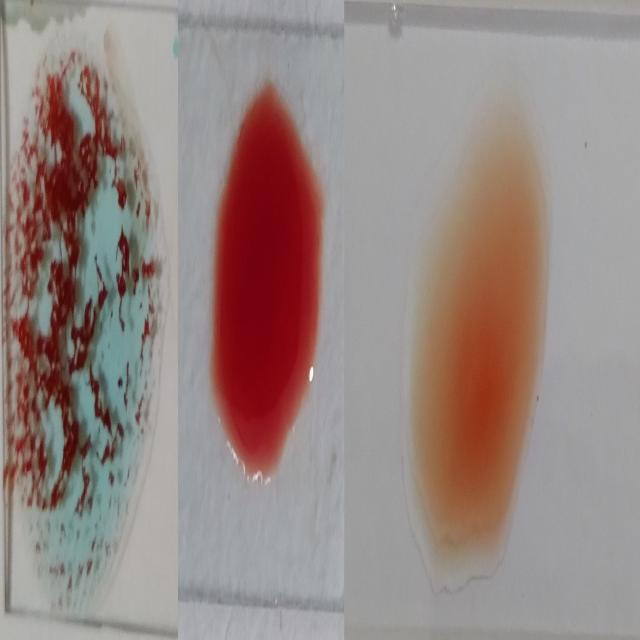A: (5, 30, 154, 582)
